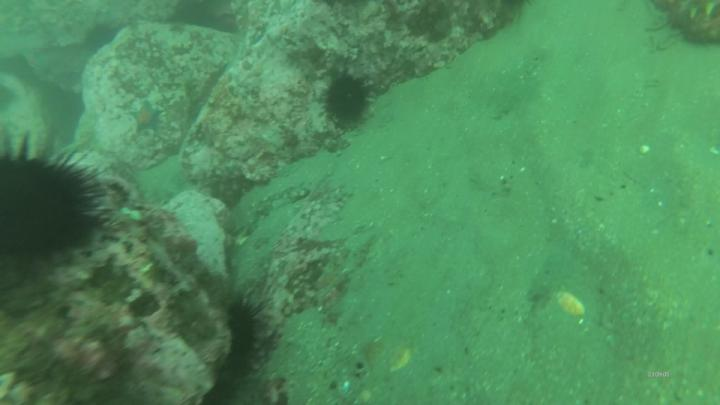echinus: (2, 130, 114, 273), (222, 296, 265, 385), (322, 71, 370, 129)
starfish: (128, 101, 167, 137)
